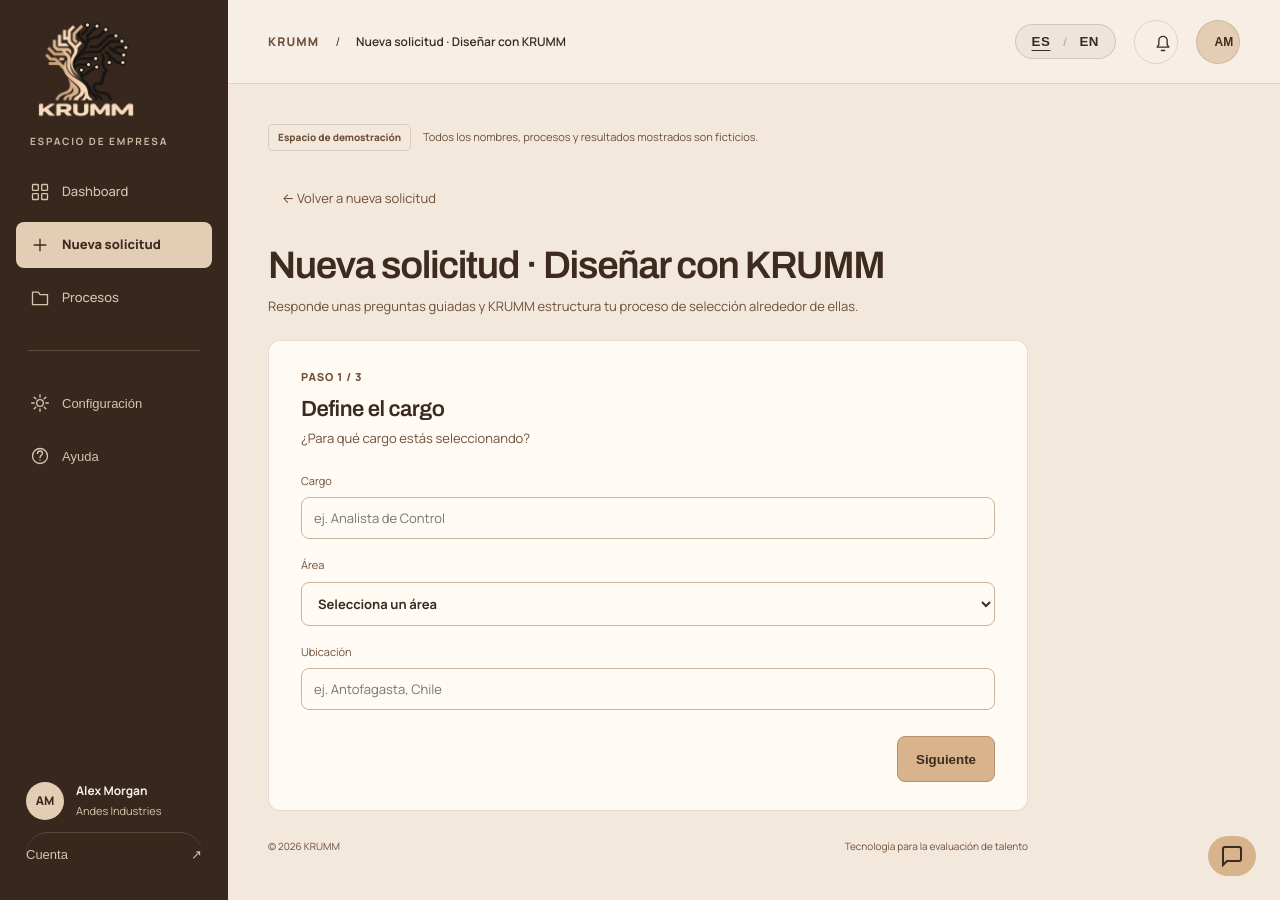
Scenario: E. diseño guiado (3 pasos → proceso en estado demo) › EN: labels del formulario EN (paso 1)
This screenshot has width=1280, height=900.
Click the button "EN".
click(1089, 42)  # box left=1069, top=28, right=1109, bottom=55
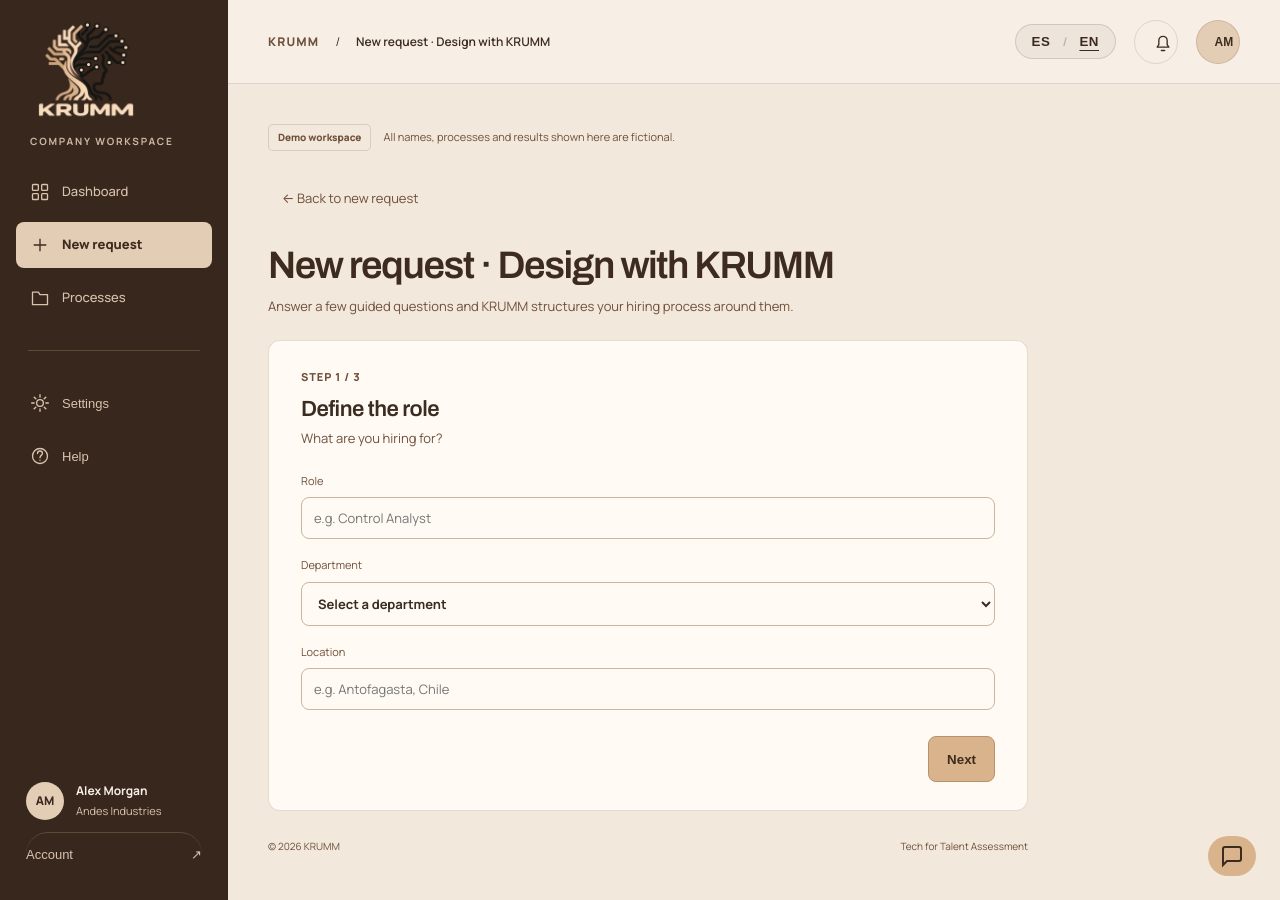
Expected: the field labelled "Role" is shown, left=301, top=497, right=995, bottom=539
Expected: the heading "New request · Design with KRUMM" is shown, left=268, top=242, right=834, bottom=287
